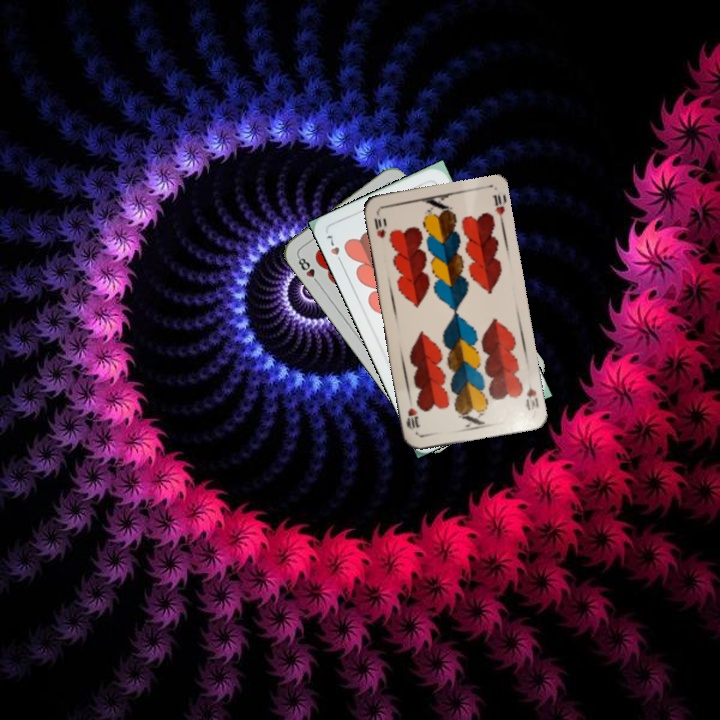H10: (522, 378, 541, 413), (370, 209, 389, 240)
H7: (322, 231, 345, 268)
H8: (294, 252, 322, 287)
